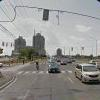Traffic light: (37, 3, 66, 25)
